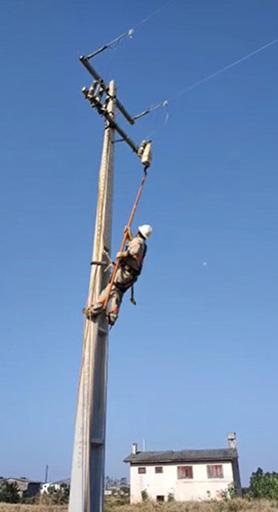Vara_Manobra: (102, 174, 149, 312)
